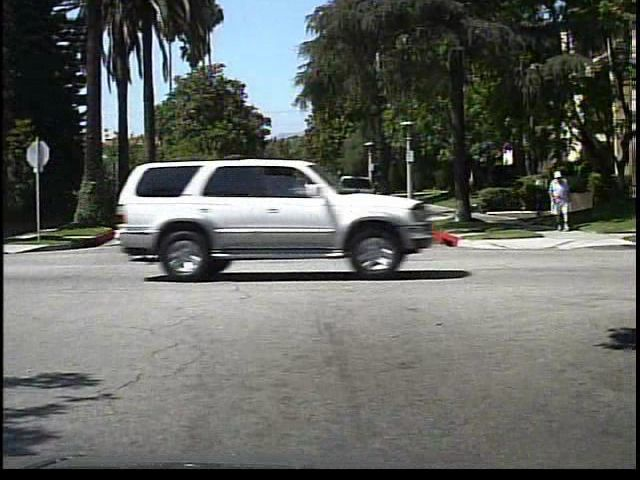person: (544, 168, 574, 234)
